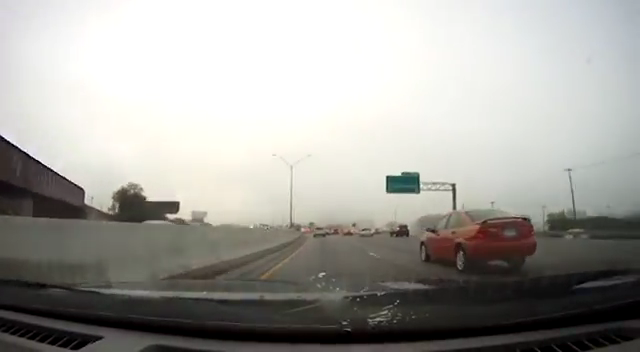car: (420, 209, 537, 271), (389, 223, 410, 238), (313, 226, 327, 237), (360, 227, 375, 237), (330, 227, 341, 235), (343, 228, 354, 236), (374, 226, 382, 233)
